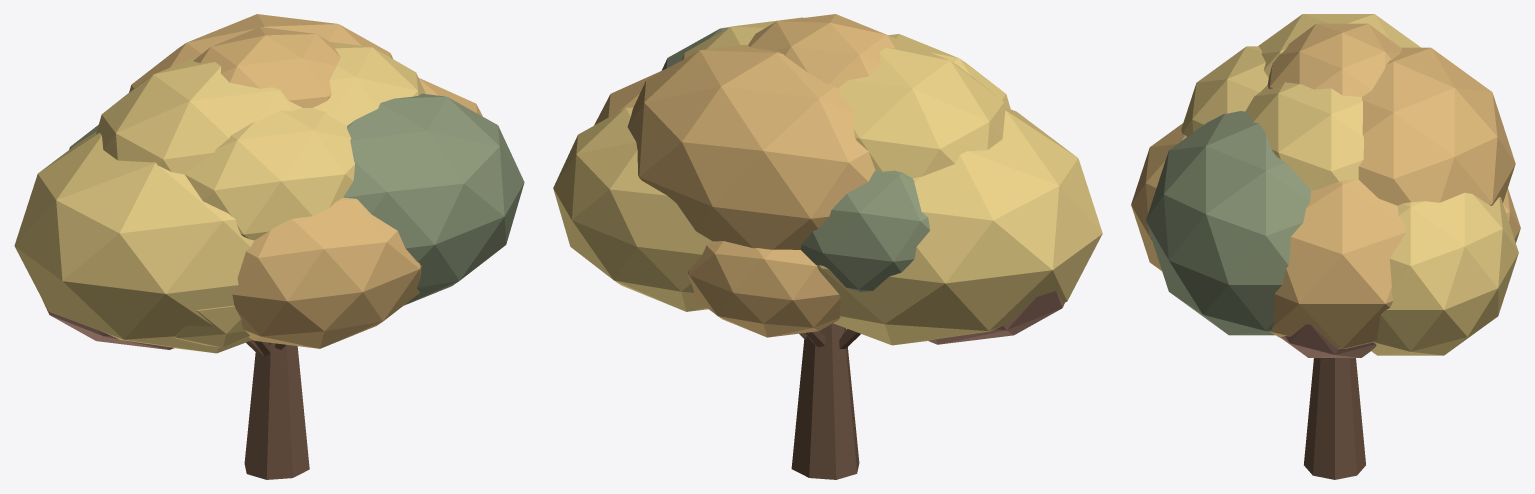
Rendered from tree_reference_oak_broad_01.fbx.
The picture shows the model from 3 angles, left to right: view 1: azimuth 30°, elevation 25°; view 2: azimuth 150°, elevation 25°; view 3: azimuth 270°, elevation 25°; orthographic projection. The views are drawn at different scales.
Visible parts, largest first — view 1: leaf_reference_middle_west, leaf_reference_outer_south_east, leaf_reference_outer_south, leaf_reference_outer_crown_front, leaf_reference_upper_west, leaf_reference_top_peak, trunk_reference_oak, leaf_reference_upper_east, leaf_reference_outer_crown_back, leaf_reference_outer_south_west, leaf_reference_outer_west, leaf_reference_middle_east; view 2: leaf_reference_outer_crown_back, leaf_reference_middle_west, leaf_reference_outer_north_east, leaf_reference_upper_west, leaf_reference_outer_north, leaf_reference_outer_north_west, trunk_reference_oak, leaf_reference_top_peak, leaf_reference_outer_west, leaf_reference_upper_east, leaf_reference_outer_crown_front, leaf_reference_middle_east; view 3: leaf_reference_outer_south_east, leaf_reference_outer_crown_back, leaf_reference_outer_north_east, leaf_reference_middle_east, leaf_reference_upper_east, leaf_reference_top_peak, trunk_reference_oak, leaf_reference_outer_crown_front, leaf_reference_upper_west, leaf_reference_outer_south, leaf_reference_outer_east, leaf_reference_outer_north.
Part boxes in pixels (x1,y1,x2,y2): leaf_reference_middle_west: [14, 131, 254, 353]; leaf_reference_outer_south_east: [343, 93, 524, 305]; leaf_reference_outer_south: [232, 197, 421, 348]; leaf_reference_outer_crown_front: [185, 108, 354, 240]; leaf_reference_upper_west: [96, 56, 302, 174]; leaf_reference_top_peak: [193, 27, 340, 107]; trunk_reference_oak: [244, 342, 309, 479]; leaf_reference_upper_east: [313, 42, 425, 125]; leaf_reference_outer_crown_back: [129, 14, 392, 92]; leaf_reference_outer_south_west: [174, 305, 249, 347]; leaf_reference_outer_west: [42, 300, 173, 349]; leaf_reference_middle_east: [419, 78, 482, 116]; leaf_reference_outer_crown_back: [627, 45, 875, 249]; leaf_reference_middle_west: [817, 109, 1102, 345]; leaf_reference_outer_north_east: [553, 107, 712, 311]; leaf_reference_upper_west: [838, 35, 1006, 178]; leaf_reference_outer_north: [688, 241, 840, 337]; leaf_reference_outer_north_west: [800, 170, 930, 291]; trunk_reference_oak: [791, 323, 859, 479]; leaf_reference_top_peak: [748, 14, 901, 88]; leaf_reference_outer_west: [928, 291, 1064, 344]; leaf_reference_upper_east: [681, 17, 803, 60]; leaf_reference_outer_crown_front: [888, 34, 1010, 110]; leaf_reference_middle_east: [594, 68, 667, 125]; leaf_reference_outer_south_east: [1146, 111, 1311, 335]; leaf_reference_outer_crown_back: [1358, 47, 1515, 205]; leaf_reference_outer_north_east: [1371, 192, 1518, 355]; leaf_reference_middle_east: [1269, 179, 1406, 348]; leaf_reference_upper_east: [1245, 82, 1363, 189]; leaf_reference_top_peak: [1267, 23, 1402, 96]; trunk_reference_oak: [1304, 358, 1365, 479]; leaf_reference_outer_crown_front: [1181, 46, 1268, 136]; leaf_reference_upper_west: [1258, 14, 1420, 77]; leaf_reference_outer_south: [1131, 123, 1186, 270]; leaf_reference_outer_east: [1281, 324, 1376, 357]; leaf_reference_outer_north: [1503, 188, 1520, 242].
Bounding box in the file's own units: 567 × 515 × 425.
